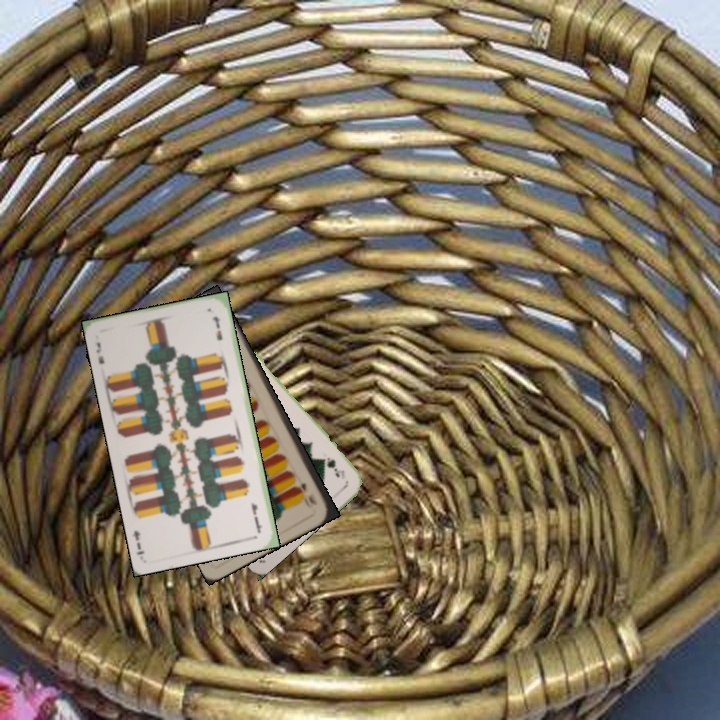E10: (297, 479, 319, 508)
E7: (247, 498, 264, 534), (92, 338, 107, 367)
G9: (319, 453, 348, 482)
